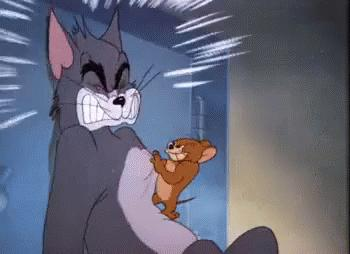jerry: (150, 137, 217, 220)
